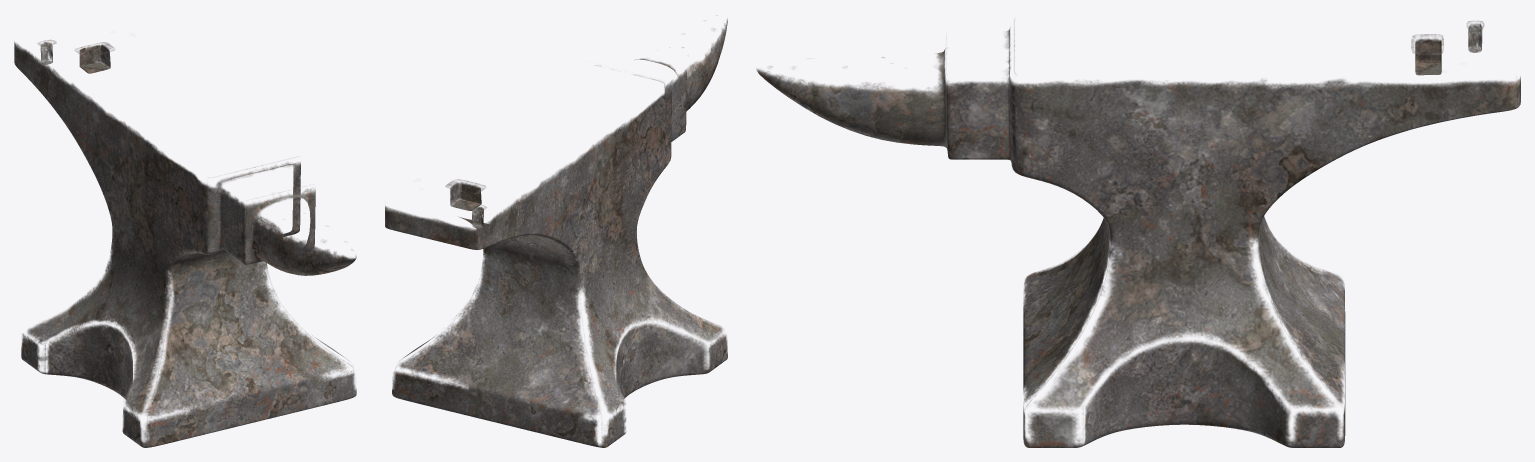
Rendered from anvil.glb.
3 views of the same model, side by side, from view 1: azimuth 30°, elevation 25°; view 2: azimuth 150°, elevation 25°; view 3: azimuth 270°, elevation 25° (orthographic). The views are drawn at different scales.
Parts seen in each view (by area): view 1: APPEND; view 2: APPEND; view 3: APPEND.
Part boxes in pixels (<box>): APPEND: <box>14,39,356,447</box>; APPEND: <box>385,15,727,447</box>; APPEND: <box>756,19,1520,447</box>.
Bounding box in the file's own units: 1.7 × 1.97 × 4.04.
Materials: 1 (1 with a texture image).
